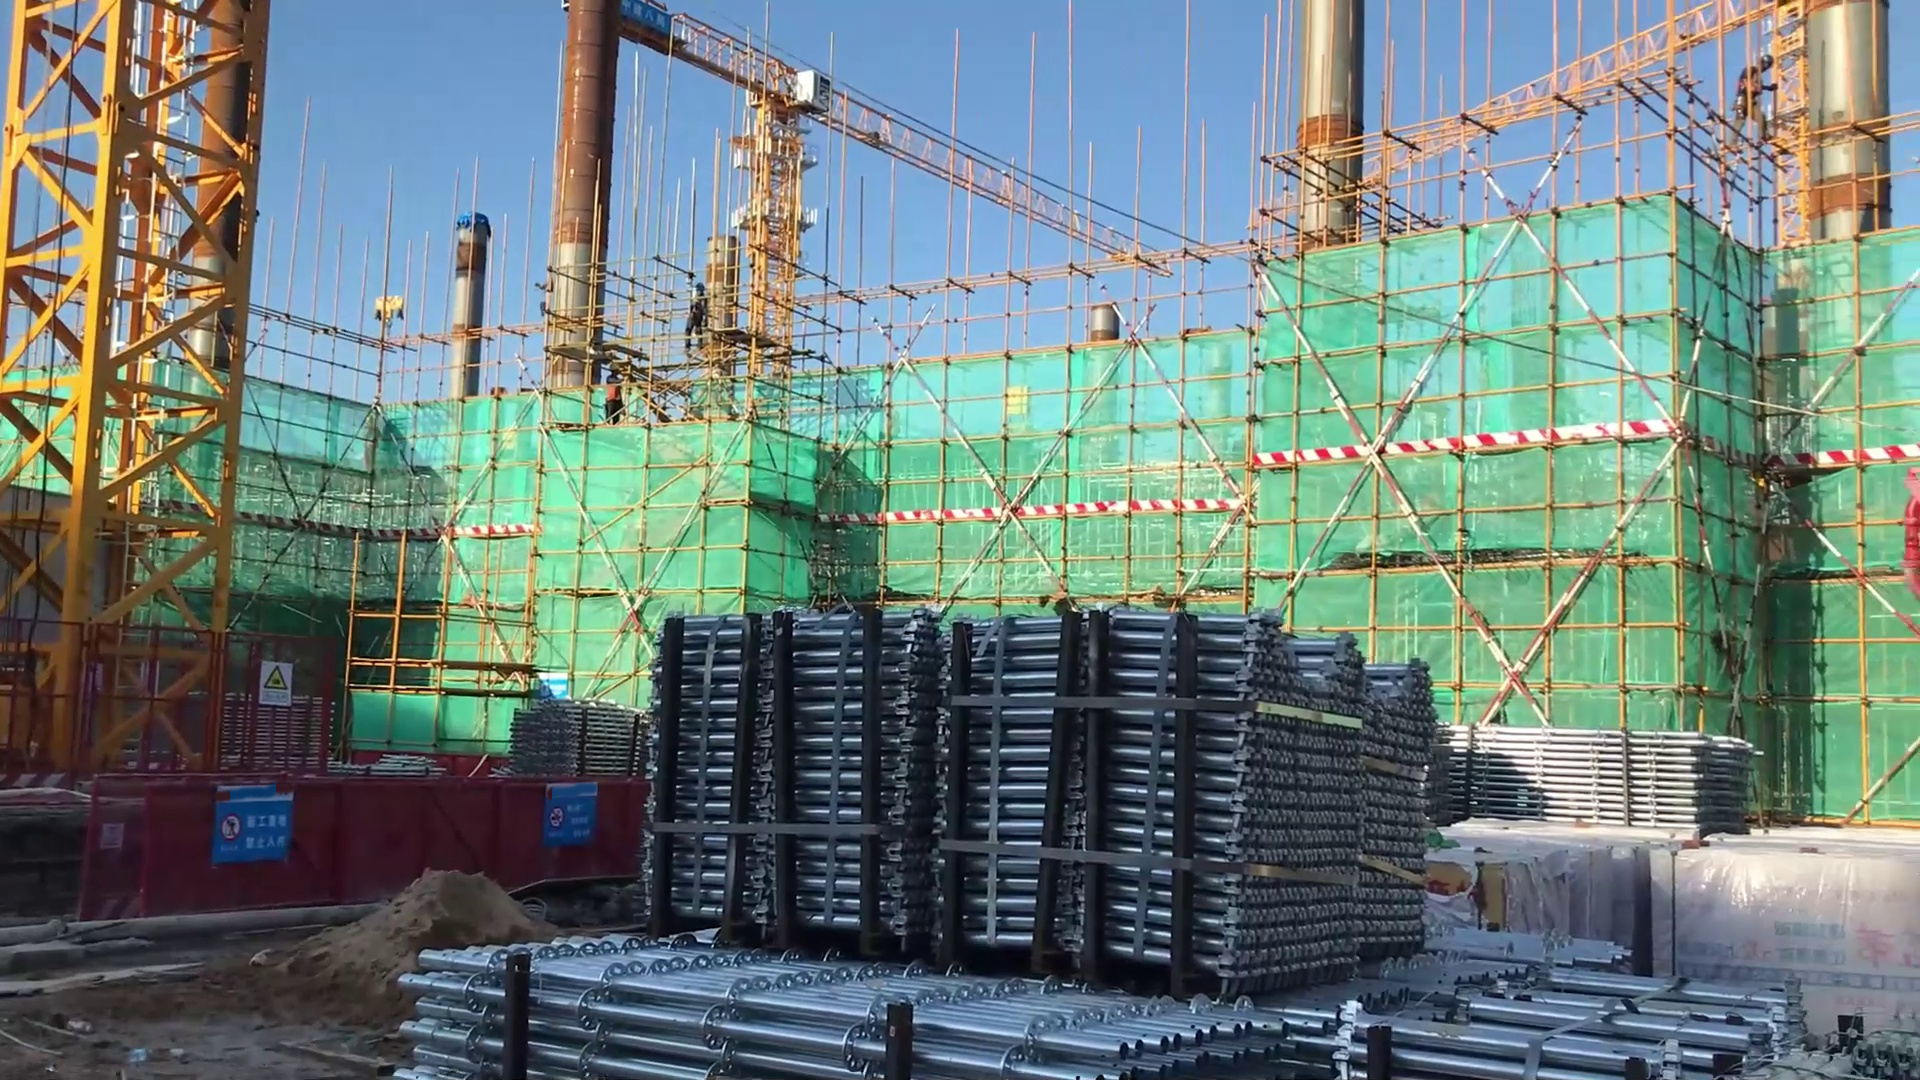fence: (48, 759, 679, 932), (1, 637, 350, 789)
person: (1732, 47, 1780, 143), (684, 280, 714, 365), (601, 356, 632, 438)
scaffold: (651, 609, 1447, 980), (376, 917, 1323, 1080), (1315, 898, 1788, 1080), (1423, 720, 1779, 827), (508, 698, 648, 782)
slogan: (201, 777, 319, 871), (534, 774, 606, 851), (251, 655, 302, 709), (525, 672, 576, 704)
